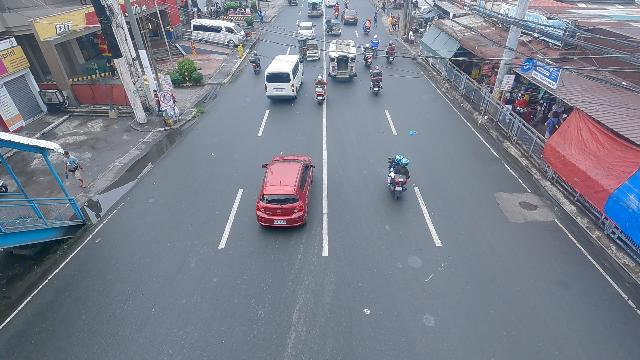car: (255, 154, 314, 230), (296, 21, 316, 38), (341, 9, 359, 26)
jeepney: (327, 38, 358, 81), (307, 0, 324, 18)
motorcycle: (386, 154, 409, 200), (312, 74, 328, 106), (369, 68, 383, 97), (248, 52, 262, 74), (361, 44, 373, 67), (386, 41, 396, 61), (362, 16, 371, 36), (370, 41, 380, 57), (334, 3, 340, 18)
van: (265, 53, 306, 100)
